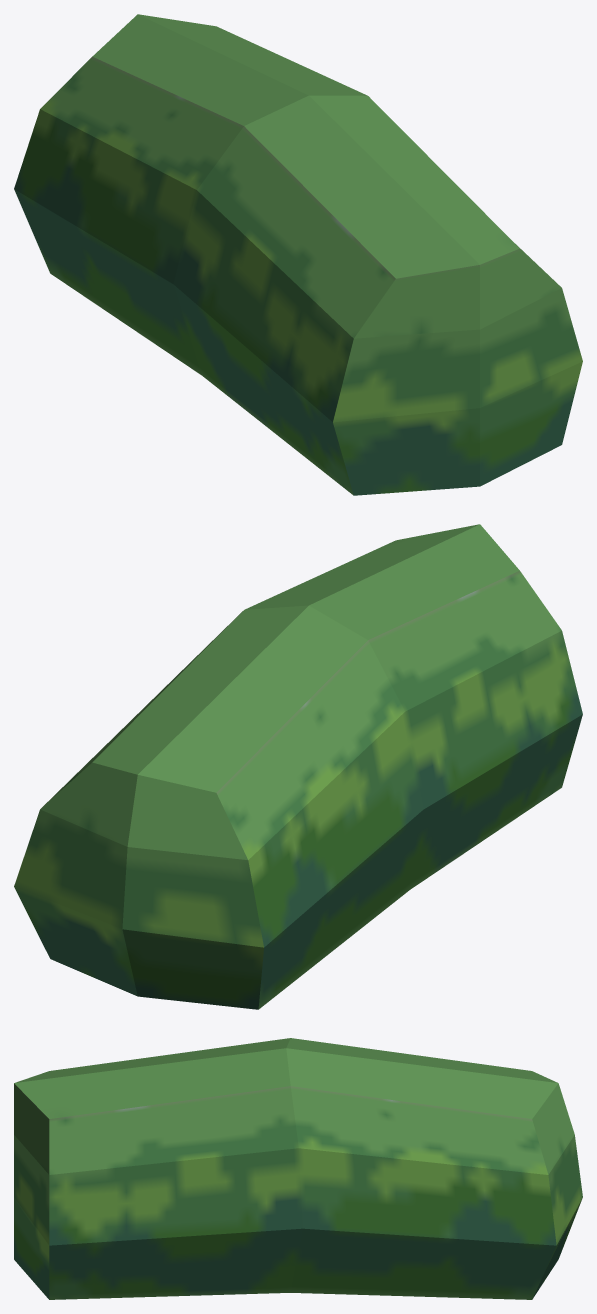
File: Arbusto1.fbx
3 views of the same model, one above another, from view 1: azimuth 30°, elevation 25°; view 2: azimuth 150°, elevation 25°; view 3: azimuth 270°, elevation 25° (orthographic). The views are drawn at different scales.
Visible parts, largest first — view 1: Arbusto1; view 2: Arbusto1; view 3: Arbusto1.
Boxes of the visible parts, bbox=[...] form: Arbusto1: bbox=[14, 14, 582, 495]; Arbusto1: bbox=[14, 524, 582, 1009]; Arbusto1: bbox=[14, 1038, 582, 1299].
Bounding box in the file's own units: 120 × 298 × 122.
